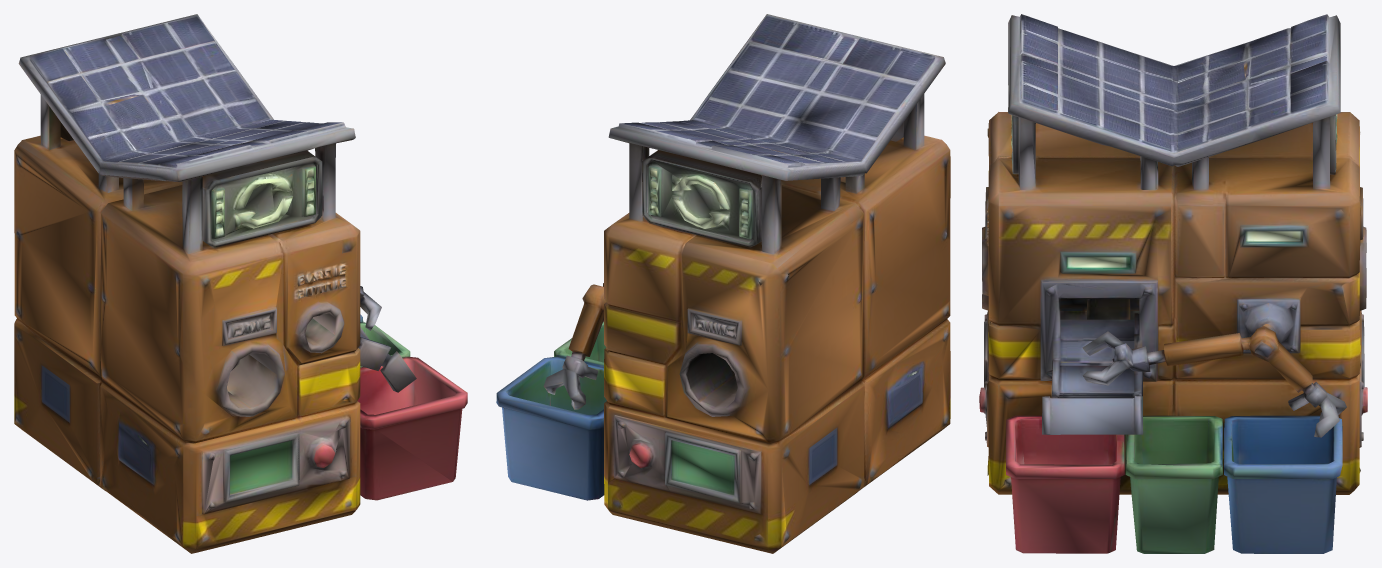
Rendered from recycle-4.glb.
The picture shows the model from 3 angles, left to right: view 1: azimuth 30°, elevation 25°; view 2: azimuth 150°, elevation 25°; view 3: azimuth 270°, elevation 25°; orthographic projection. The views are drawn at different scales.
Visible parts, largest first — view 1: node_0; view 2: node_0; view 3: node_0.
Boxes of the visible parts, x1,y1,x2,y2 form: node_0: [14, 14, 467, 553]; node_0: [496, 14, 950, 553]; node_0: [979, 14, 1367, 553].
Bounding box in the file's own units: 0.65 × 0.8093 × 0.7155.
Materials: 1 (1 with a texture image).
